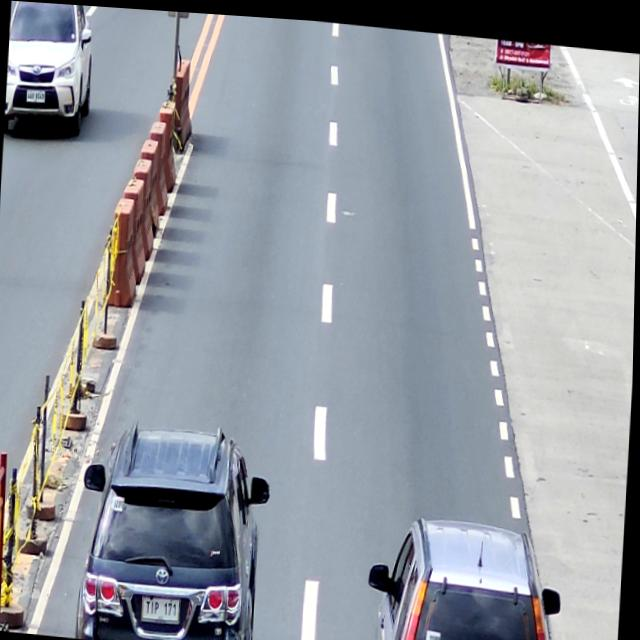Car: (75, 412, 276, 640), (365, 503, 568, 640), (5, 0, 98, 137)
License-Plate: (141, 589, 184, 622), (25, 87, 46, 103)
